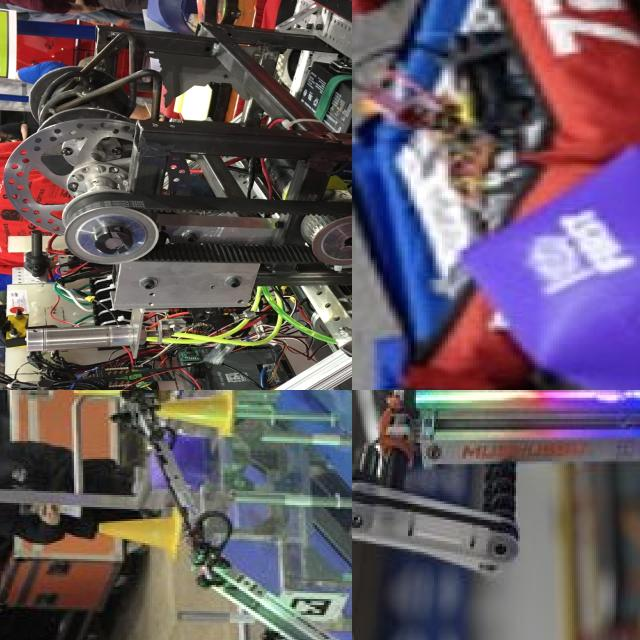FRC-Robots: (0, 0, 352, 390), (352, 0, 640, 390), (352, 390, 640, 640), (120, 536, 352, 640)
